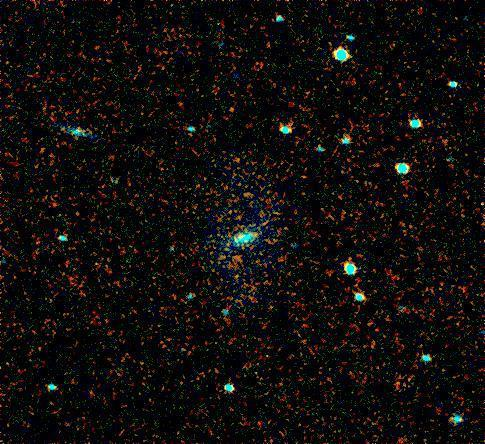star: (220, 266, 250, 296)
